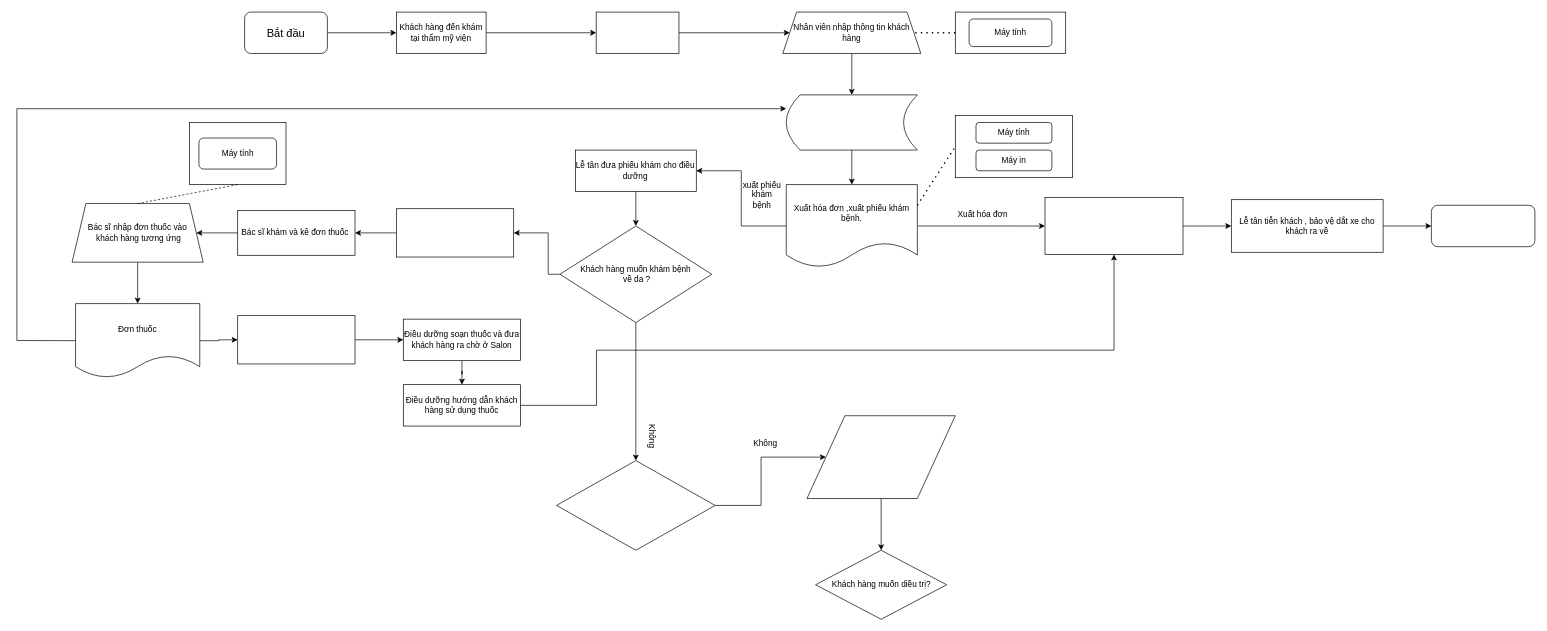
The diagram is 1547 pixels wide and 631 high, and some of its shapes have lost their labels. The centre of each missing label's shape, as x and y in pixels:
"Khách hàng cần tư vấn chuyên sâu và khám thẩm mỹ?" belongs at (x=635, y=505).
"khách hàng tái khám hoặc sử dụng dịch vụ 2 lần trở đi" belongs at (x=880, y=457).
"Kết thúc" belongs at (x=1483, y=226).
"Lễ tân thanh toán tiền cho khách" belongs at (x=1113, y=225).
"Lễ tân tiếp đón và hỏi thông tin về khách hàng" belongs at (x=637, y=32).
"Thông tin được lưu vào cơ sở dữ liệu của thẩm mỹ viện." belongs at (x=851, y=122).
"Điều dưỡng vào phòng lấy đơn thuốc" belongs at (x=296, y=339).
"Điều dưỡng đưa khách vào phòng để bác sĩ khám ( theo số thứ tự)" belongs at (x=455, y=232).
